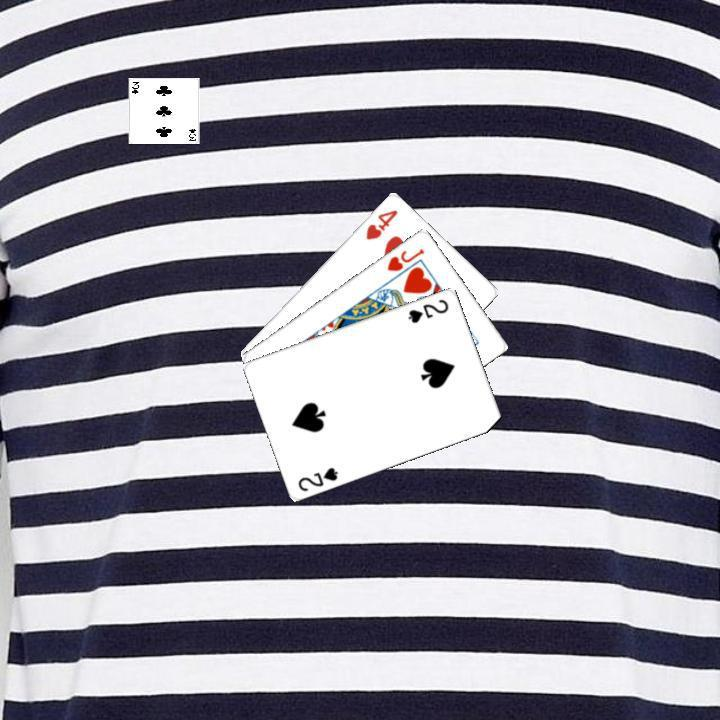2: (404, 294, 451, 325), (294, 462, 340, 493)
4: (361, 205, 400, 242)
J: (383, 244, 426, 273)
